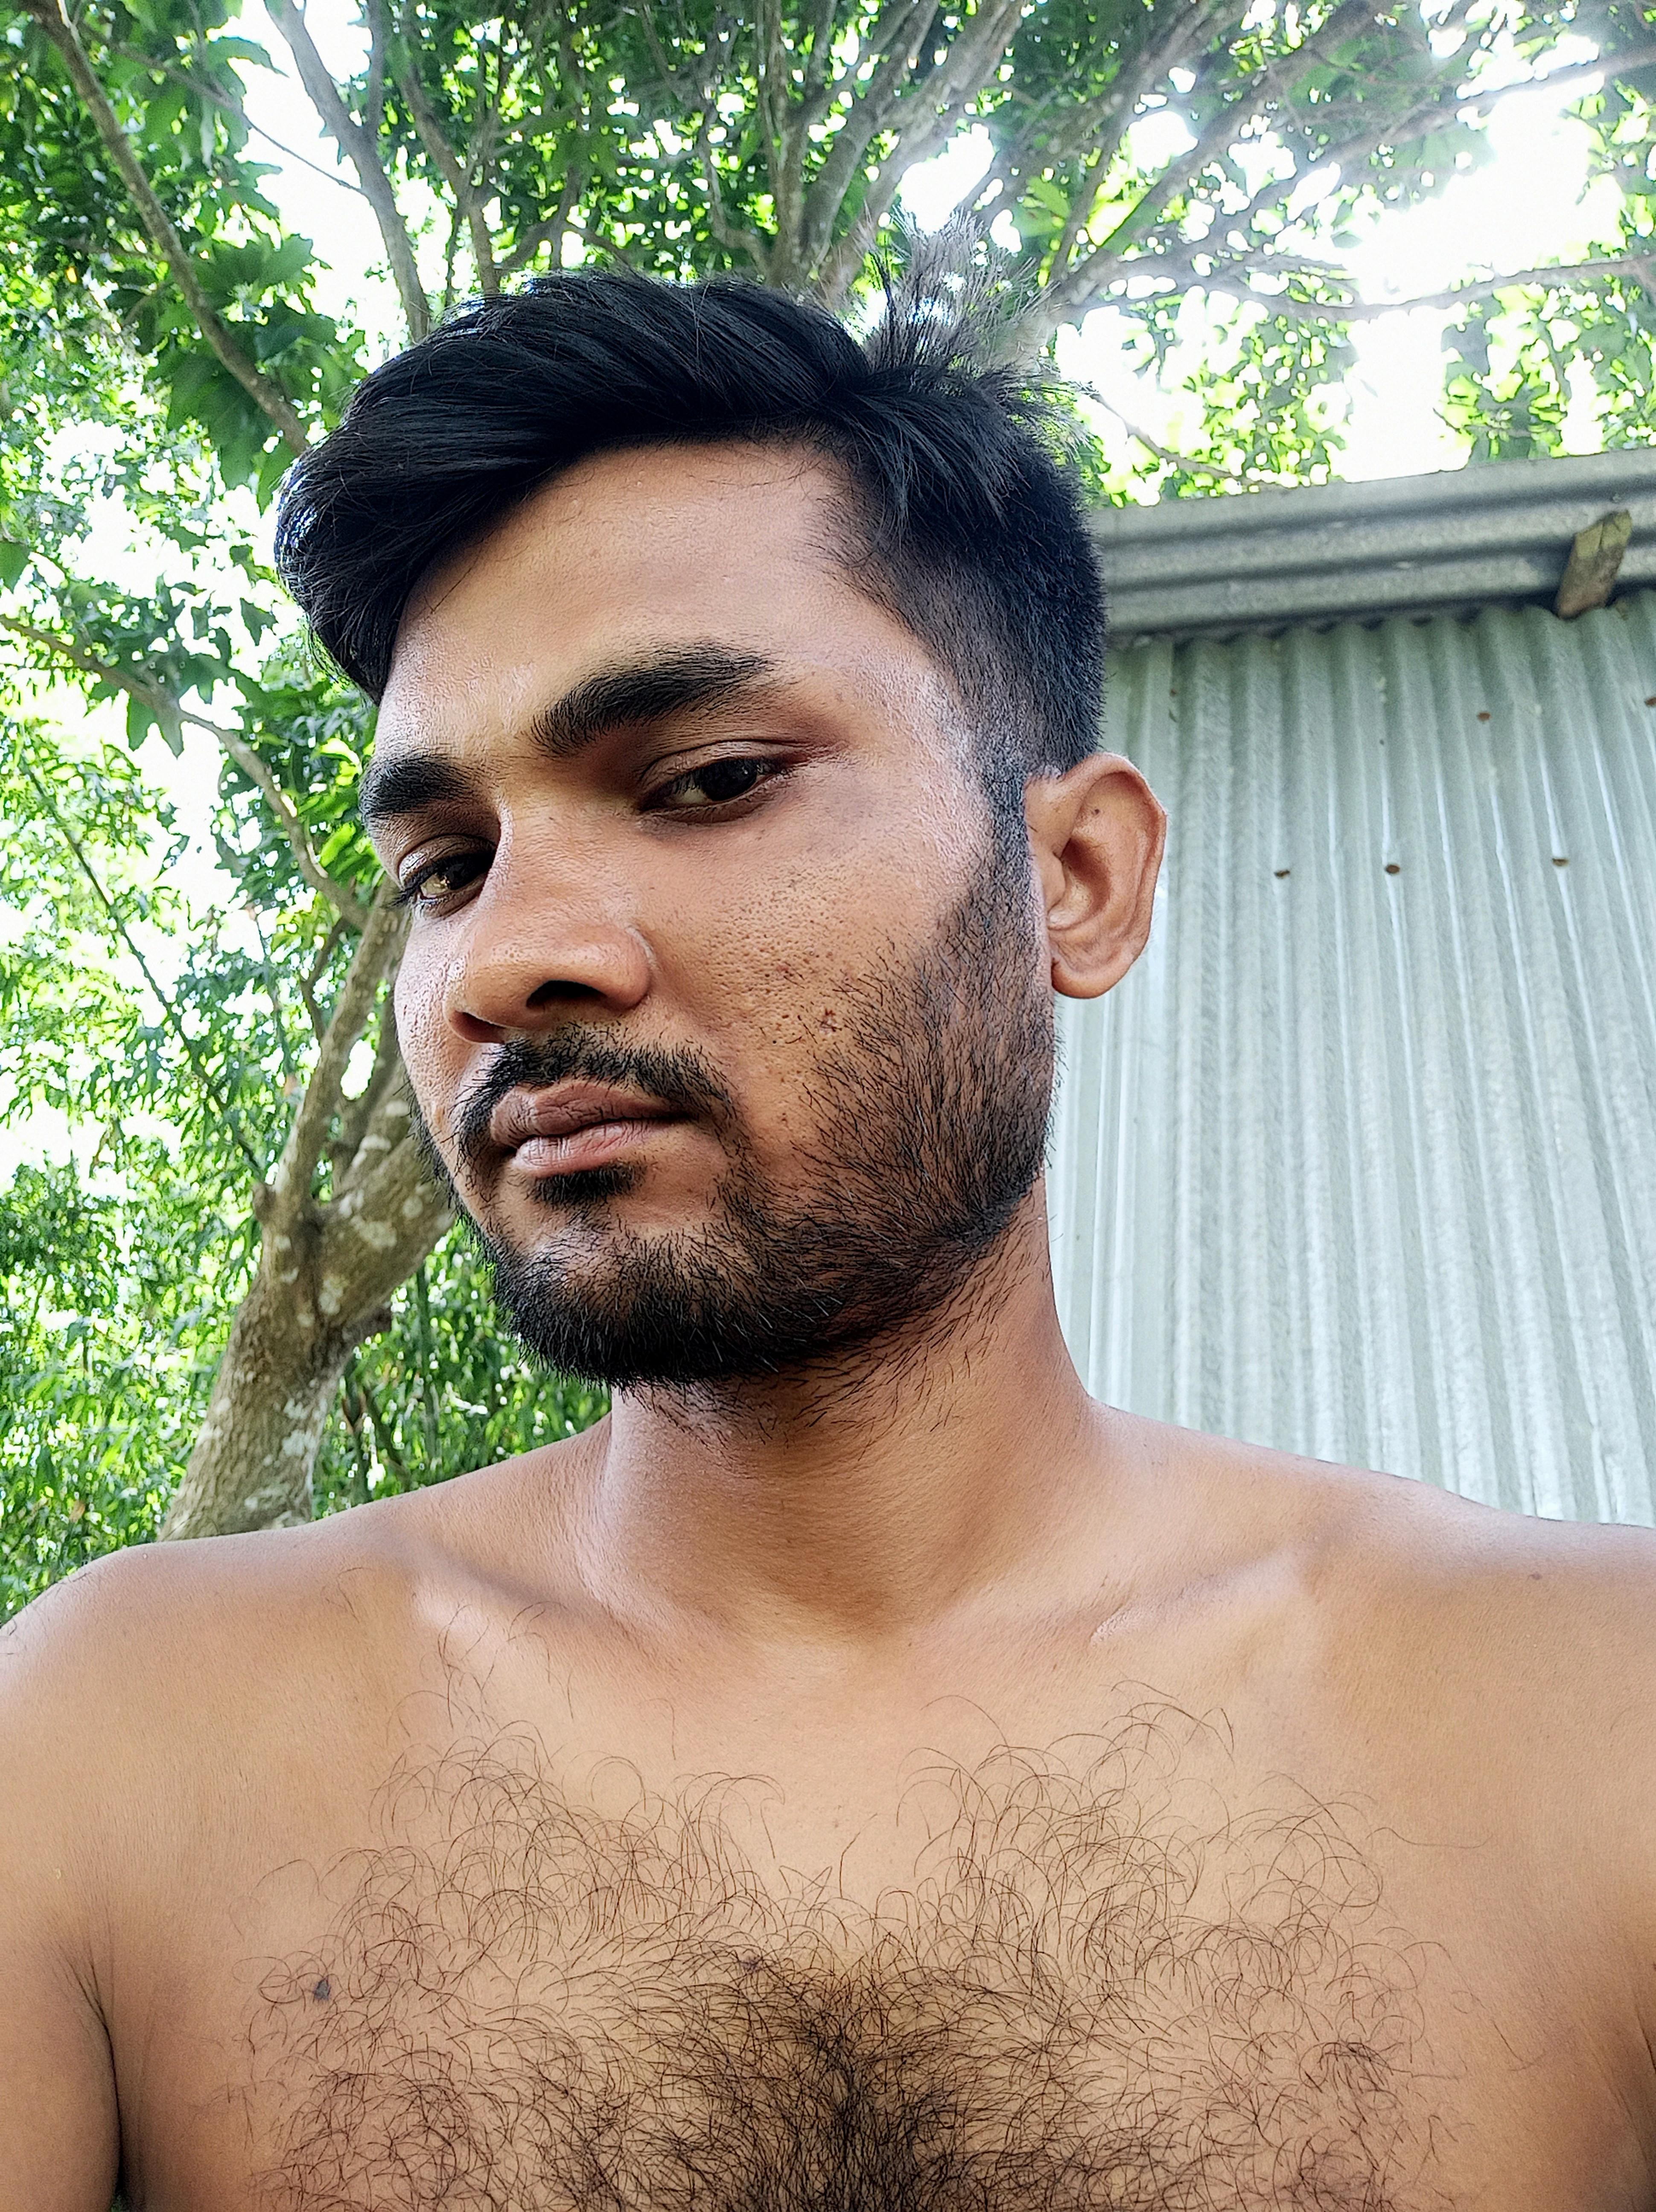Englarged-Pores: (698, 868, 851, 1059), (844, 654, 957, 739), (402, 974, 457, 1109), (913, 737, 976, 852), (393, 656, 435, 730), (440, 951, 473, 1009)
